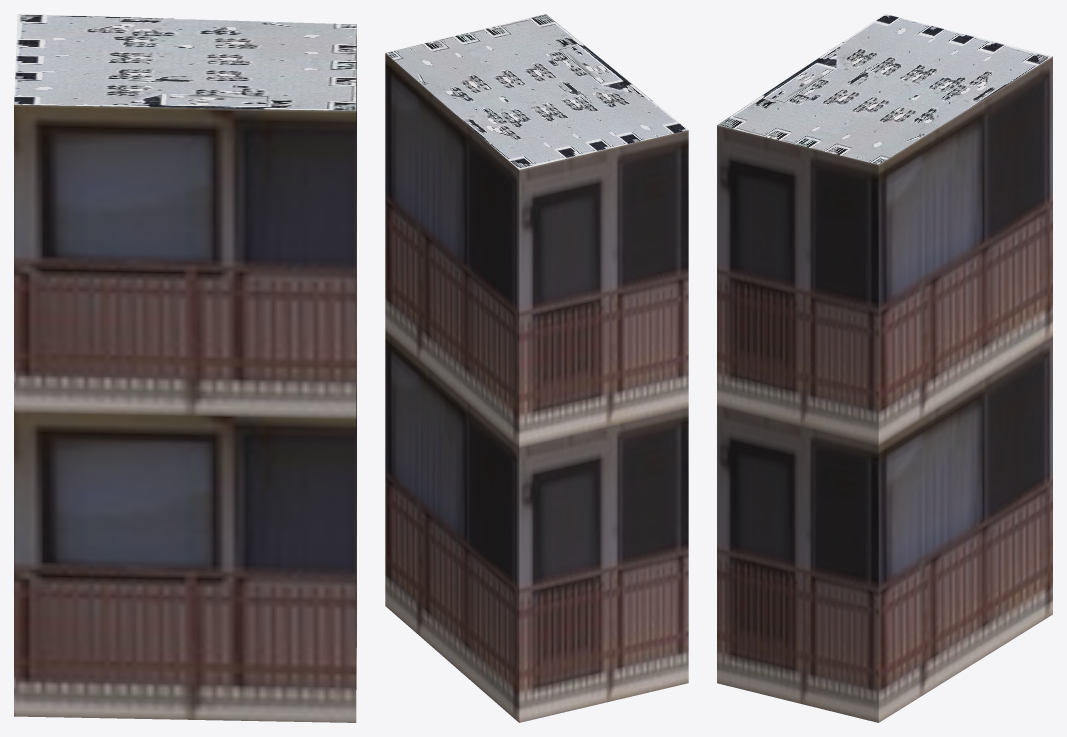
The model's file is ResTex__3095.fbx.
3 views of the same model, side by side, from view 1: azimuth 30°, elevation 25°; view 2: azimuth 150°, elevation 25°; view 3: azimuth 270°, elevation 25° (orthographic). The views are drawn at different scales.
Parts seen in each view (by area): view 1: CityEngineMaterial_6_m, CityEngineMaterial_8_m; view 2: CityEngineMaterial_6_m, CityEngineMaterial_8_m; view 3: CityEngineMaterial_6_m, CityEngineMaterial_8_m.
Part boxes in pixels (x1,y1,x2,y2): CityEngineMaterial_6_m: (14, 36, 356, 722); CityEngineMaterial_8_m: (14, 14, 356, 110); CityEngineMaterial_6_m: (385, 53, 688, 722); CityEngineMaterial_8_m: (386, 14, 687, 169); CityEngineMaterial_6_m: (717, 56, 1052, 722); CityEngineMaterial_8_m: (717, 14, 1052, 164).
Size of the model in its own units: 3.48 by 6 by 3.27.
Materials: 2 (2 with a texture image).
